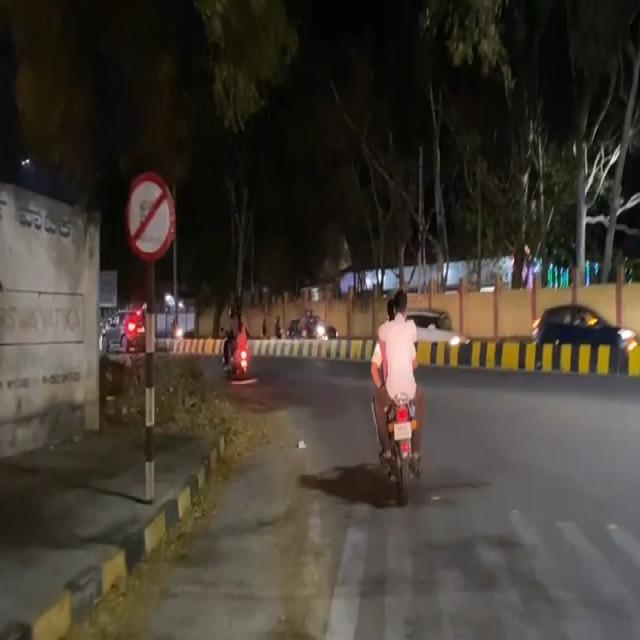bien_cam: (122, 169, 176, 264)
